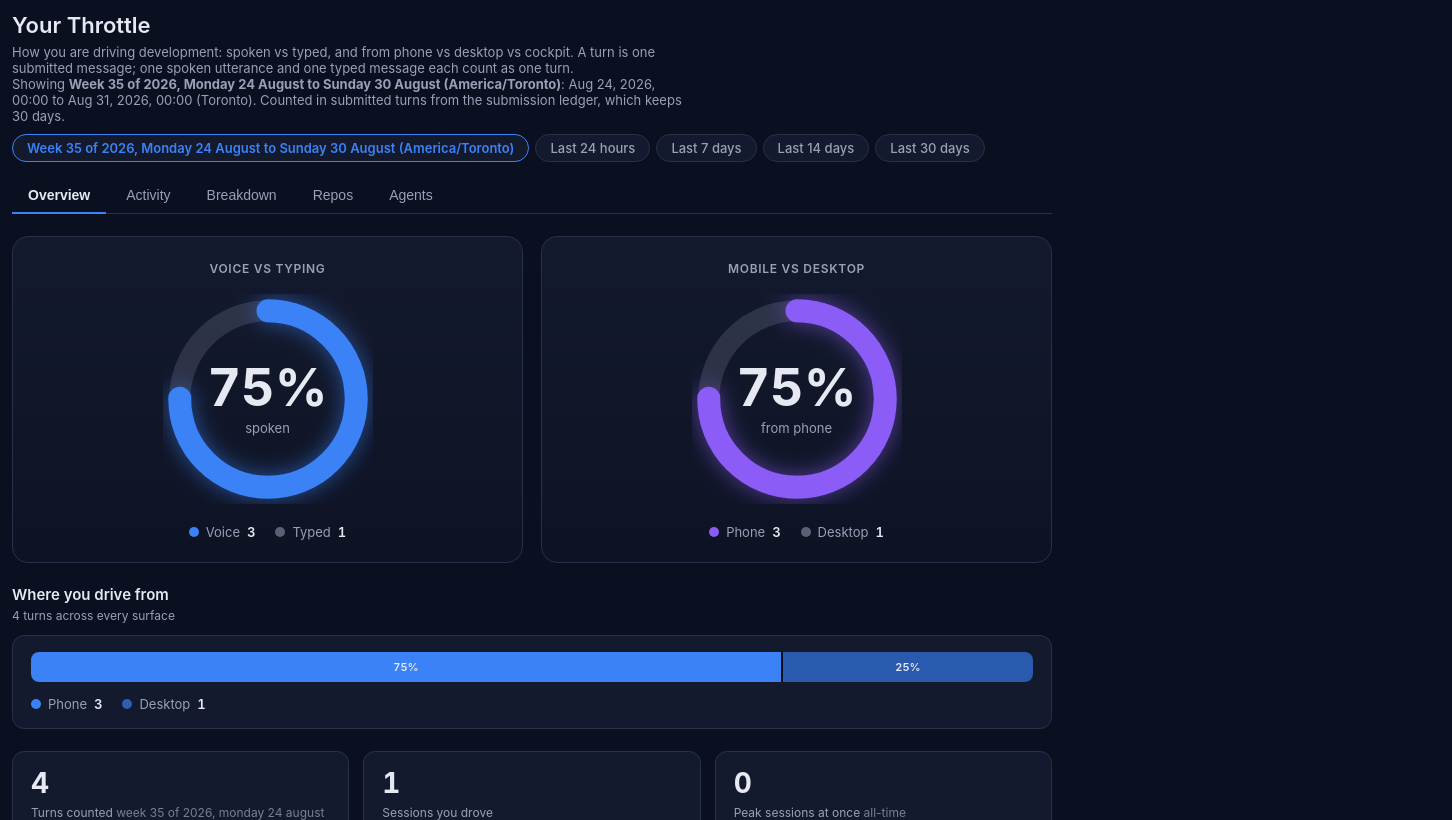
Scenario: YourThrottleView at the mentor report's link › choosing a length re-asks the Gateway with days=N, puts days=N in the URL, and marks the served choice
Check: the text with test id "thr-window-week" is shown, box [12, 134, 529, 162]
What coordinates should you click on to do the following:
click the button "Last 14 days"
I would click on:
 (816, 148)
Its box is [763, 134, 869, 162].
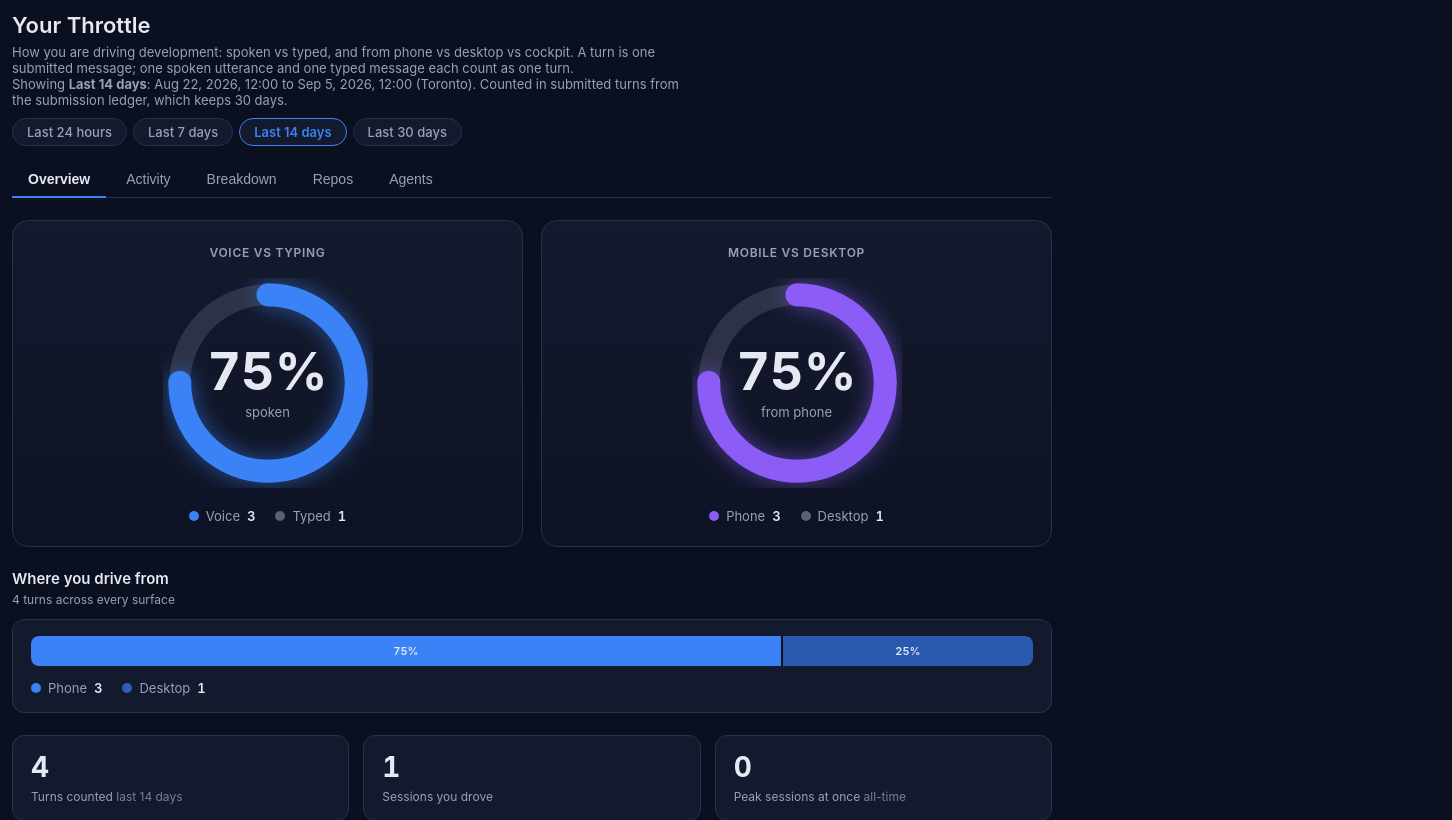
Check: the button "Last 14 days" is shown, box [239, 118, 347, 146]
Check: the element with test id "thr-window" shows "Last 14 days", box [69, 76, 147, 92]
Check: the text with test id "thr-window-week" is gone
